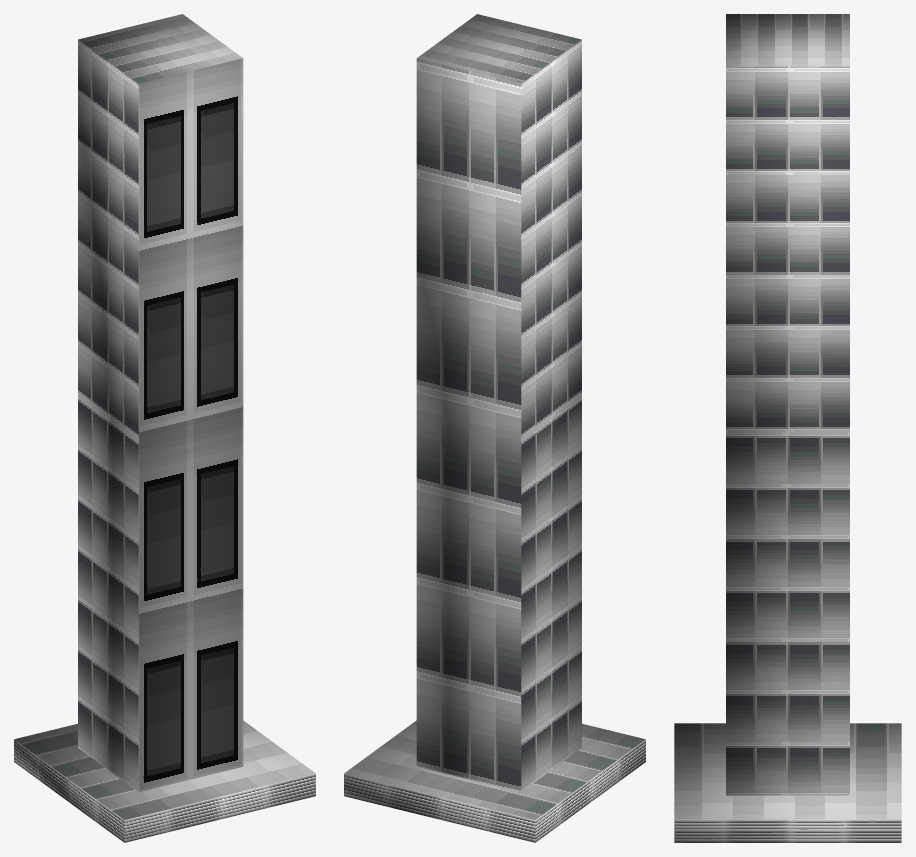
File: 3550IMEL01_20c.gltf
3 renders of one model, left to right at view 1: azimuth 30°, elevation 25°; view 2: azimuth 150°, elevation 25°; view 3: azimuth 270°, elevation 25°, orthographic. The views are drawn at different scales.
Visible parts, largest first — view 1: 3550IMEL01_20c; view 2: 3550IMEL01_20c; view 3: 3550IMEL01_20c.
Boxes of the visible parts, x1,y1,x2,y2 form: 3550IMEL01_20c: (14, 14, 315, 842); 3550IMEL01_20c: (344, 14, 645, 842); 3550IMEL01_20c: (674, 14, 901, 842).
Bounding box in the file's own units: 0.5562 × 2.03 × 0.5562.
Materials: 2 (2 with a texture image).
